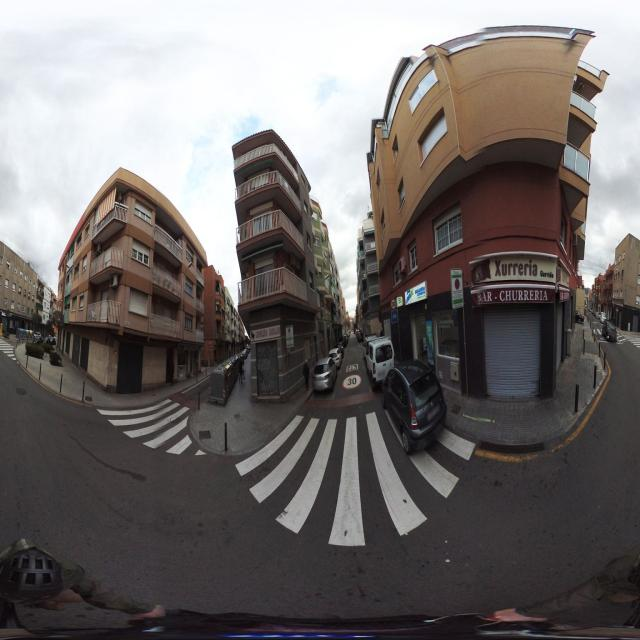forb_stopping: (455, 278, 459, 290)
